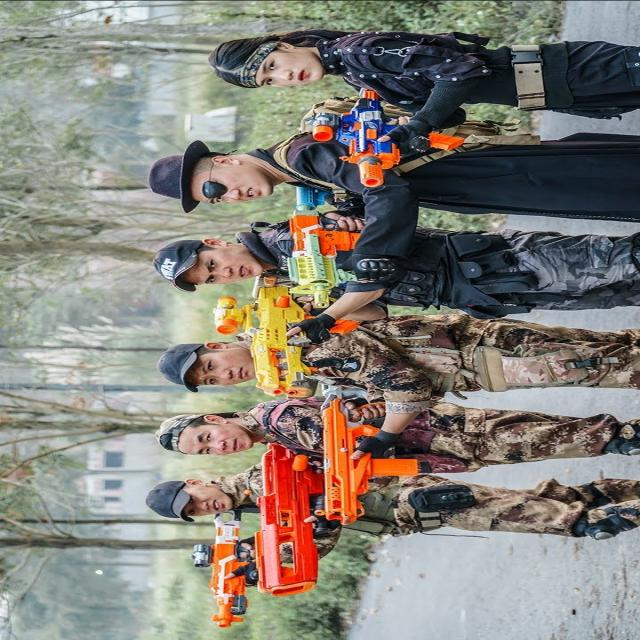Nerf gun: (208, 267, 364, 407), (305, 77, 479, 191), (302, 378, 431, 530), (248, 439, 338, 601), (274, 183, 372, 315), (182, 505, 270, 635)
